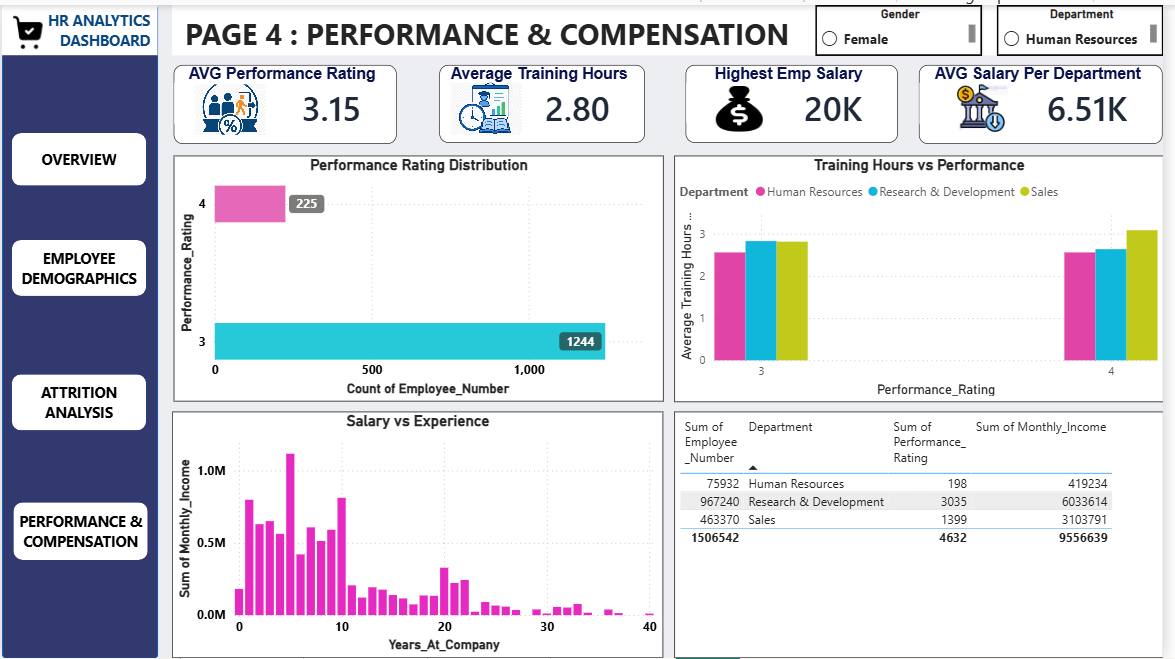

The dashboard page shown, as its layout file describes it:
{"tool":"powerbi","page":{"name":"Page 4","canvas":[1280,720],"ordinal":3},"visuals":[{"type":"shape","box":[0,0,172.3,720.6],"z":0},{"type":"textbox","box":[187.2,0,1093.6,55.3],"z":1000},{"type":"cardVisual","title":"AVG Performance Rating","fields":{"Data":["Excel_HR_Cleaned_Data.Average Performance Rating"]},"box":[189.5,65.7,245.6,87],"z":2000},{"type":"cardVisual","title":"Average Training Hours","fields":{"Data":["Excel_HR_Cleaned_Data.Average Training Hours per Employee"]},"box":[482.2,66.1,226.8,85.7],"z":3000},{"type":"cardVisual","title":"Highest Emp Salary","fields":{"Data":["Excel_HR_Cleaned_Data.Highest Salary"]},"box":[753.7,66.1,234,85.7],"z":4000},{"type":"cardVisual","title":"AVG Salary Per Department","fields":{"Data":["Excel_HR_Cleaned_Data.Average Salary per Department"]},"box":[1011.3,65.7,268.8,87],"z":5000},{"type":"clusteredBarChart","title":"Performance Rating Distribution","fields":{"Category":["Excel_HR_Cleaned_Data.Performance_Rating"],"Y":["Count(Excel_HR_Cleaned_Data.Employee_Number)"]},"box":[189.3,166.1,540,271],"z":6000},{"type":"tableEx","fields":{"Values":["Sum(Excel_HR_Cleaned_Data.Employee_Number)","Excel_HR_Cleaned_Data.Department","Sum(Excel_HR_Cleaned_Data.Performance_Rating)","Sum(Excel_HR_Cleaned_Data.Monthly_Income)"]},"box":[741.2,448.3,539.3,271.5],"z":7000},{"type":"columnChart","title":"Salary vs Experience","fields":{"Category":["Excel_HR_Cleaned_Data.Years_At_Company"],"Y":["Sum(Excel_HR_Cleaned_Data.Monthly_Income)"]},"box":[187.5,448.3,541.1,271.5],"z":8000},{"type":"clusteredColumnChart","title":"Training Hours vs Performance","fields":{"Y":["Excel_HR_Cleaned_Data.Average Training Hours per Employee"],"Category":["Excel_HR_Cleaned_Data.Performance_Rating"],"Series":["Excel_HR_Cleaned_Data.Department"]},"box":[741.2,166.1,539.3,271.5],"z":9000},{"type":"actionButton","box":[12.4,548.9,148.3,63.5],"z":10000},{"type":"actionButton","box":[10.6,407.7,148.3,61.8],"z":11000},{"type":"actionButton","box":[10.6,259.4,148.3,61.8],"z":12000},{"type":"actionButton","box":[10.6,141.2,148.3,58.2],"z":13000},{"type":"actionButton","box":[0,0,171.4,55.4],"z":14000},{"type":"image","box":[212.5,87.5,78.6,55.4],"z":15000},{"type":"listSlicer","fields":{"Values":["Excel_HR_Cleaned_Data.Department"]},"box":[1096,0,184,56],"z":16000},{"type":"listSlicer","fields":{"Values":["Excel_HR_Cleaned_Data.Gender"]},"box":[896,0,184,56],"z":17000},{"type":"image","box":[494.7,85.7,78.6,57.1],"z":17001},{"type":"image","box":[775.1,87.5,75,53.6],"z":17002},{"type":"image","box":[1044.8,87.5,71.4,57.1],"z":17003}]}

Visuals, with their boxes on the page's 1280x720 design canvas (x1, y1, x2, y2). These are canvas units, not pixel positions in the 1175x659 screenshot, which may show the page scaled, cropped or inside an application window:
shape: (0, 0, 172, 721)
textbox: (187, 0, 1281, 55)
"AVG Performance Rating" cardVisual: (190, 66, 435, 153)
"Average Training Hours" cardVisual: (482, 66, 709, 152)
"Highest Emp Salary" cardVisual: (754, 66, 988, 152)
"AVG Salary Per Department" cardVisual: (1011, 66, 1280, 153)
"Performance Rating Distribution" clusteredBarChart: (189, 166, 729, 437)
tableEx - Sum(Excel_HR_Cleaned_Data.Employee_Number) x Excel_HR_Cleaned_Data.Department: (741, 448, 1280, 720)
"Salary vs Experience" columnChart: (188, 448, 729, 720)
"Training Hours vs Performance" clusteredColumnChart: (741, 166, 1280, 438)
actionButton: (12, 549, 161, 612)
actionButton: (11, 408, 159, 470)
actionButton: (11, 259, 159, 321)
actionButton: (11, 141, 159, 199)
actionButton: (0, 0, 171, 55)
image: (212, 88, 291, 143)
listSlicer - Excel_HR_Cleaned_Data.Department: (1096, 0, 1280, 56)
listSlicer - Excel_HR_Cleaned_Data.Gender: (896, 0, 1080, 56)
image: (495, 86, 573, 143)
image: (775, 88, 850, 141)
image: (1045, 88, 1116, 145)
